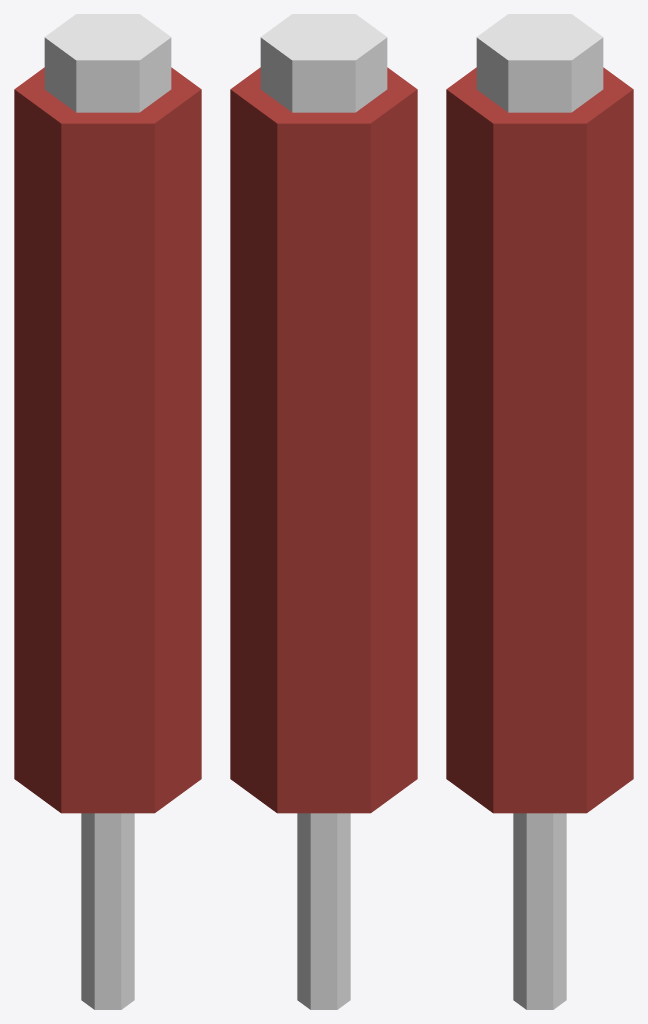
Rendered from twin_shock_lod2.glb.
3 renders of one model, left to right at view 1: azimuth 30°, elevation 25°; view 2: azimuth 150°, elevation 25°; view 3: azimuth 270°, elevation 25°, orthographic.
Visible parts, largest first — view 1: twin_shock_lod2; view 2: twin_shock_lod2; view 3: twin_shock_lod2.
Part boxes in pixels (x1=…): twin_shock_lod2: x1=14, y1=14, x2=201, y2=1009; twin_shock_lod2: x1=230, y1=14, x2=417, y2=1009; twin_shock_lod2: x1=446, y1=14, x2=633, y2=1009.
Size of the model in its own units: 0.0485 by 0.318 by 0.056.
